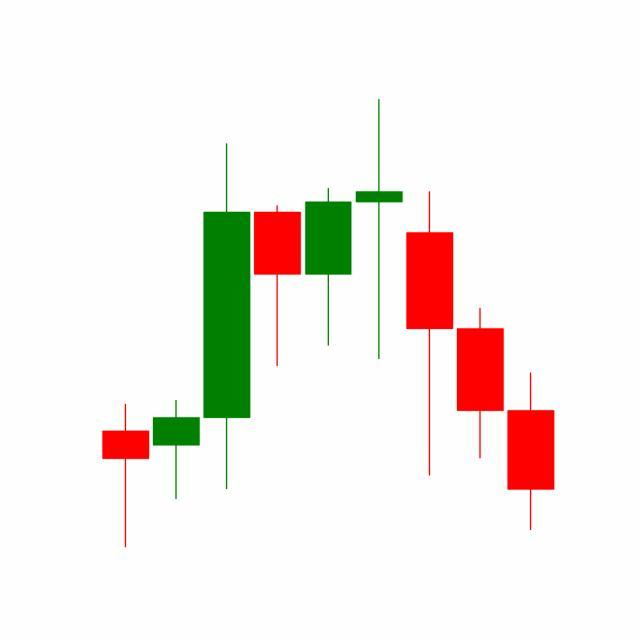Hikkake Pattern: (252, 99, 506, 481)
